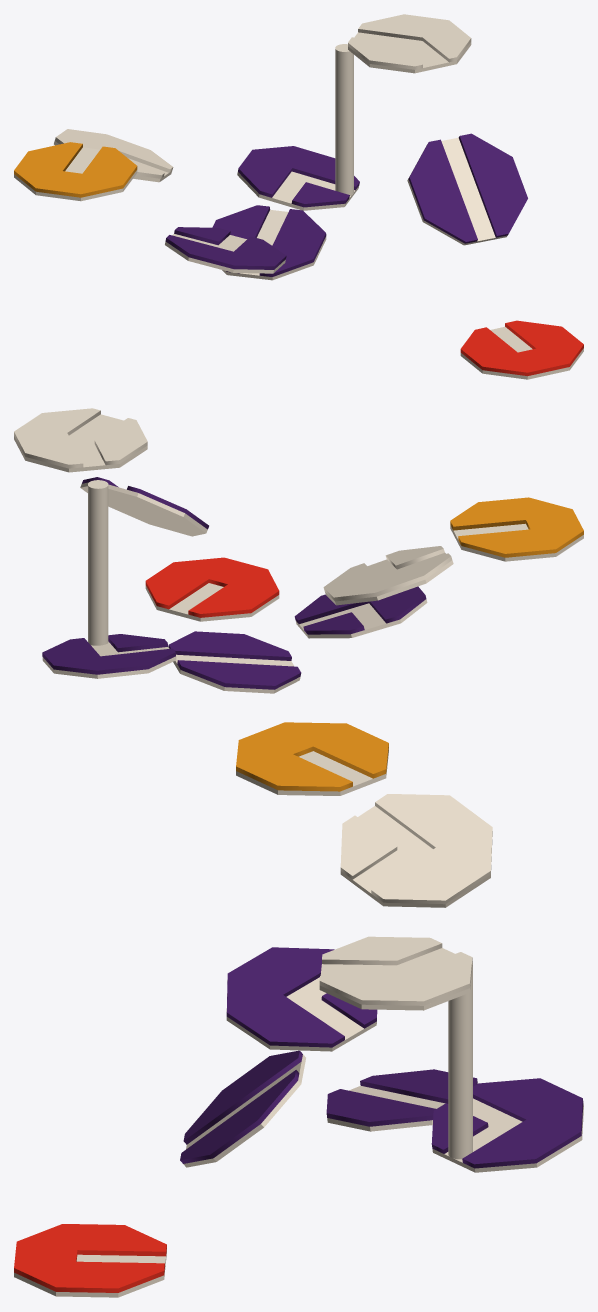
File: Lvl_004.FBX
The picture shows the model from 3 angles, top to bottom: view 1: azimuth 30°, elevation 25°; view 2: azimuth 150°, elevation 25°; view 3: azimuth 270°, elevation 25°; orthographic projection. The views are drawn at different scales.
Parts seen in each view (by area): view 1: NGon020; view 2: NGon020; view 3: NGon020.
Part boxes in pixels (bbox=[...]): NGon020: bbox=[14, 14, 583, 379]; NGon020: bbox=[14, 408, 583, 693]; NGon020: bbox=[14, 722, 583, 1297].
Size of the model in its own units: 69.68 by 32.41 by 56.06.
